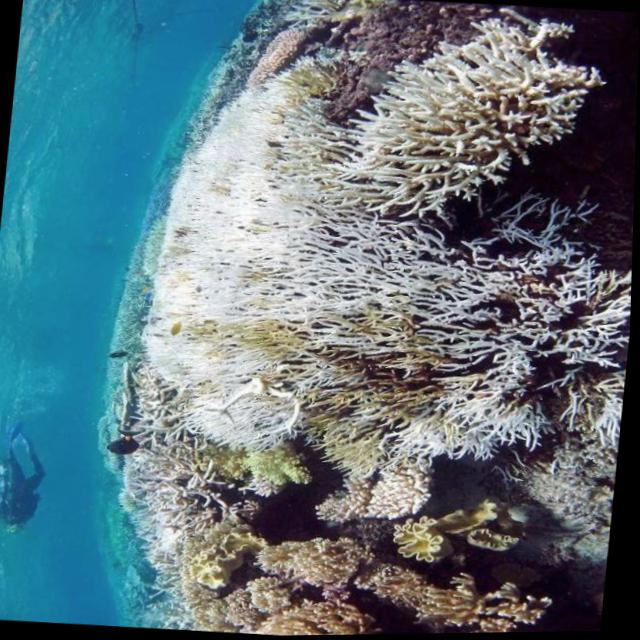Bleached Coral: (137, 0, 640, 540)
Healthy Coral: (186, 523, 555, 638)
